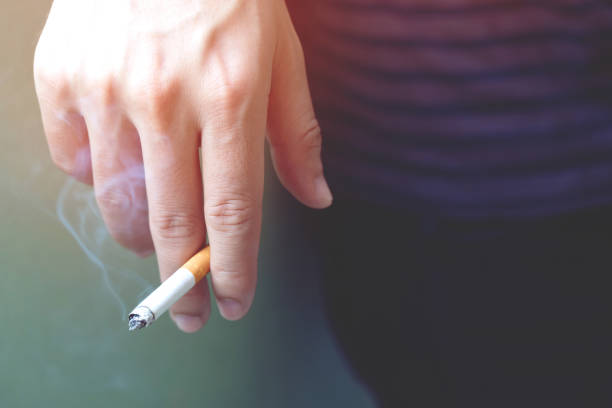cigarette: (125, 243, 216, 332)
